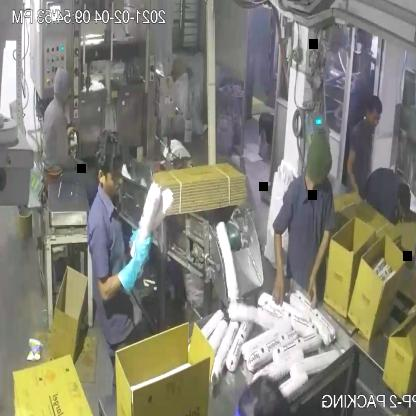glove: (114, 229, 155, 303)
no_glove: (304, 222, 333, 321), (266, 219, 287, 315), (347, 145, 367, 200)
